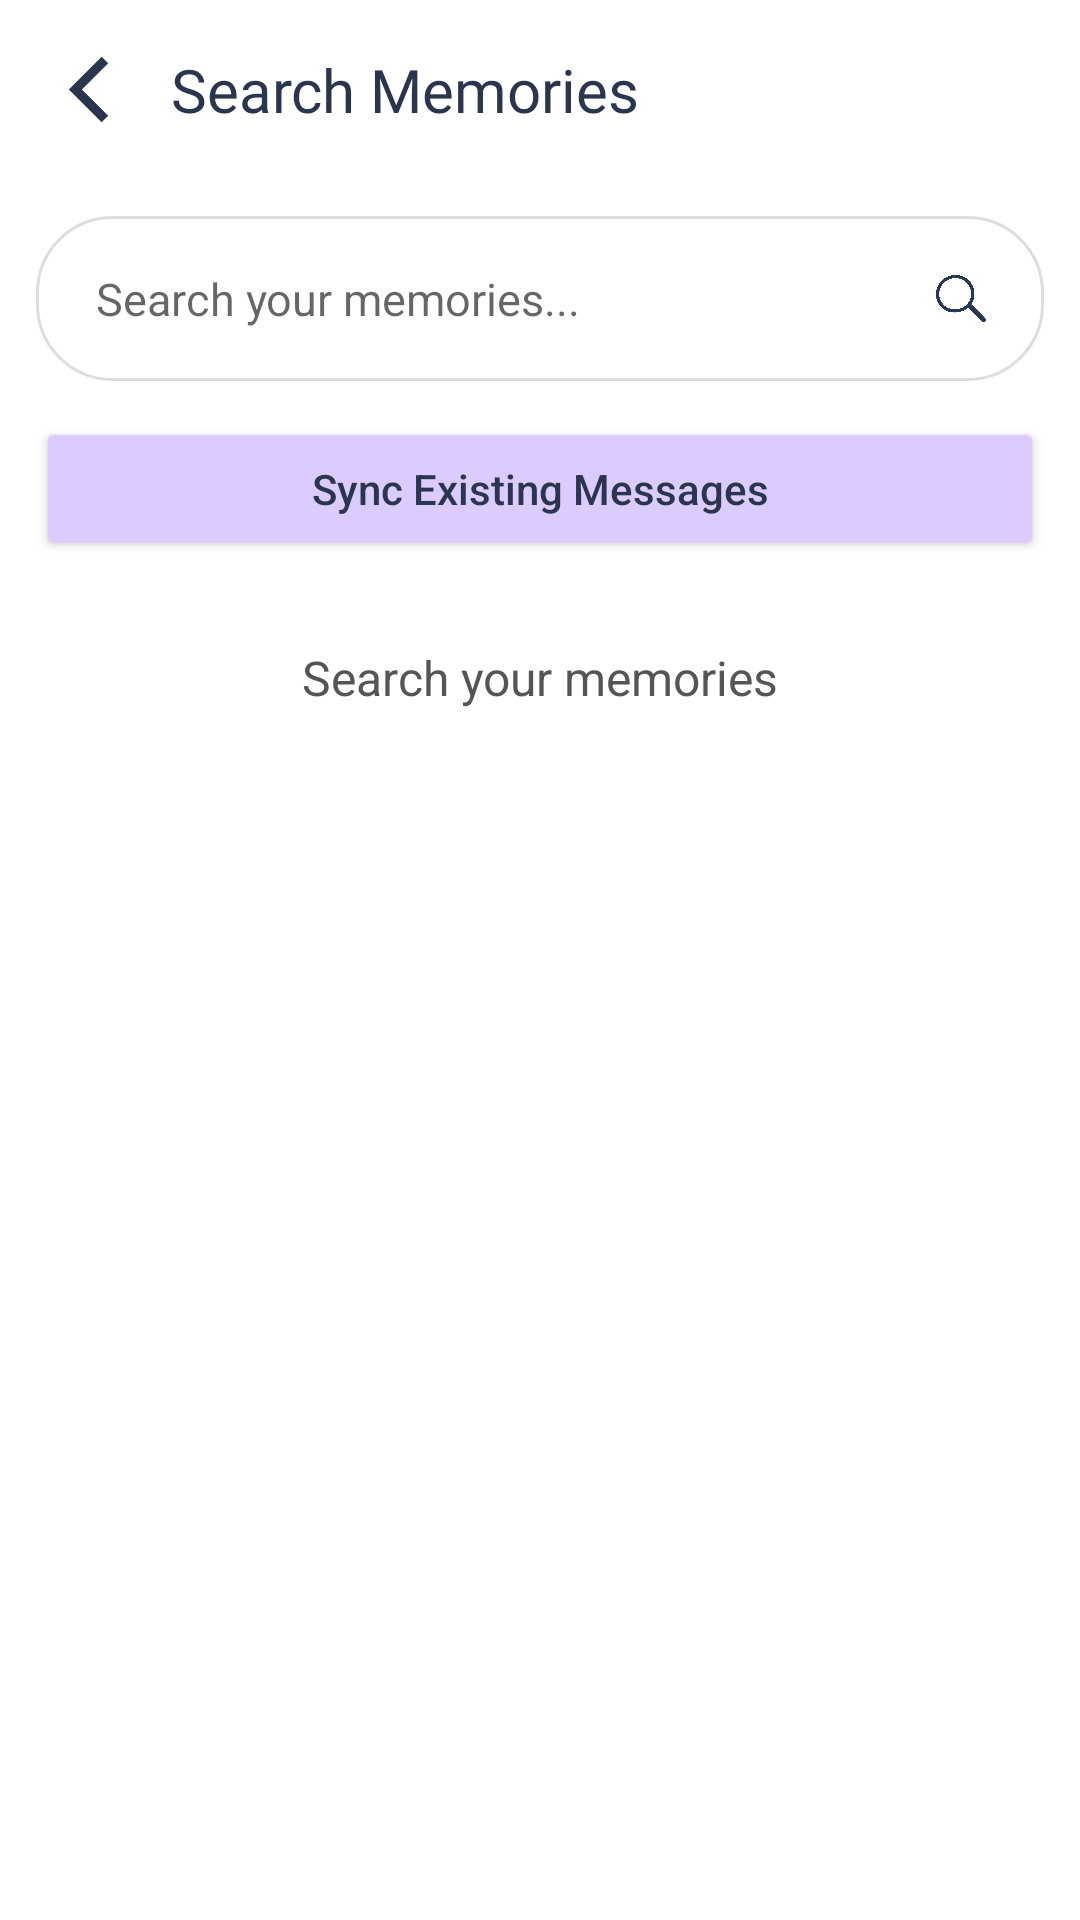

Icons on this 1080w x 1920h Android screen, each with the point to tap as (x=x, y=y):
Back: (x=88, y=89)
